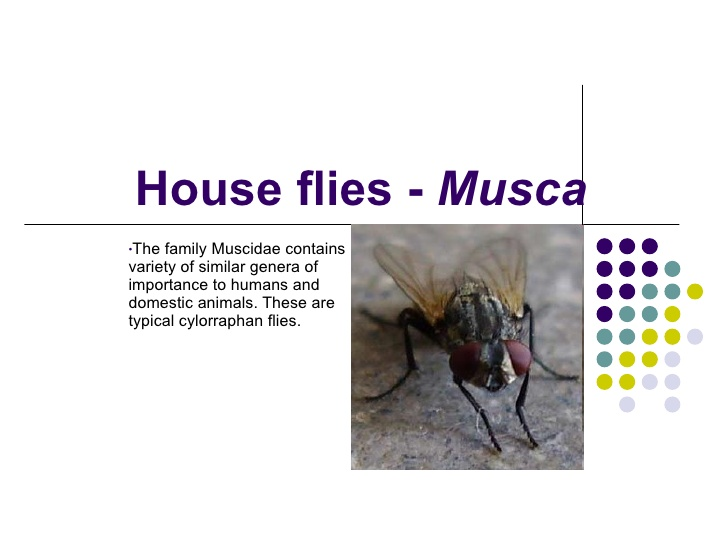house fly: (356, 233, 581, 459)
